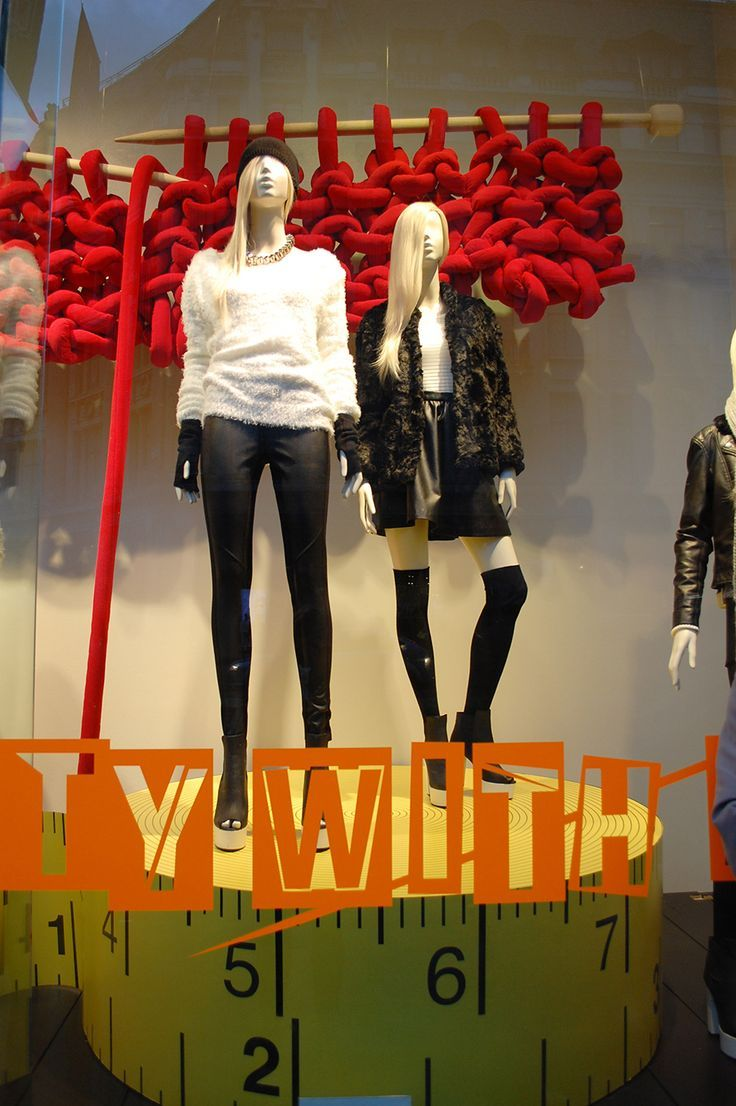person-like: (159, 133, 379, 861), (342, 188, 539, 819), (660, 306, 736, 1075)
